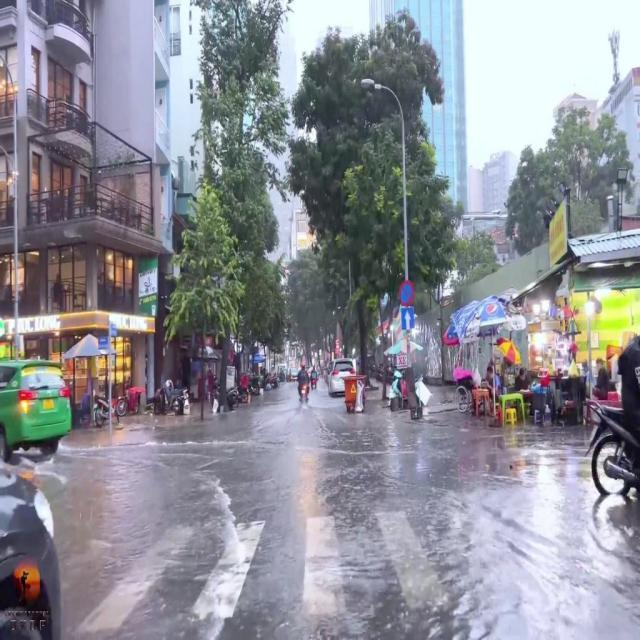131a-cam-do-xe: (398, 280, 416, 306)
407a-duong-mot-chieu: (401, 308, 415, 328)
